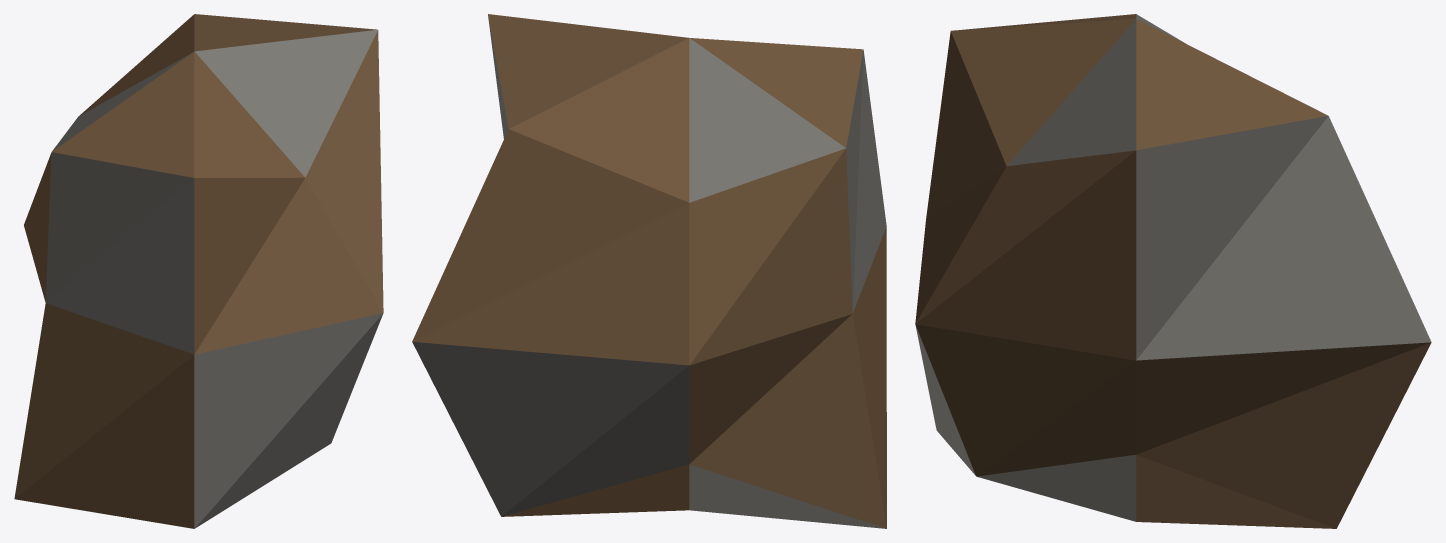
File: earth_chunk.glb
3 views of the same model, side by side, from view 1: azimuth 30°, elevation 25°; view 2: azimuth 150°, elevation 25°; view 3: azimuth 270°, elevation 25° (orthographic). The views are drawn at different scales.
Visible parts, largest first — view 1: earth_chunk; view 2: earth_chunk; view 3: earth_chunk.
Boxes of the visible parts, x1,y1,x2,y2 form: earth_chunk: (14, 14, 383, 528); earth_chunk: (412, 14, 886, 528); earth_chunk: (915, 14, 1431, 528).
Bounding box in the file's own units: 0.2652 × 0.3 × 0.2789.
Materials: 1 (1 with a texture image).
